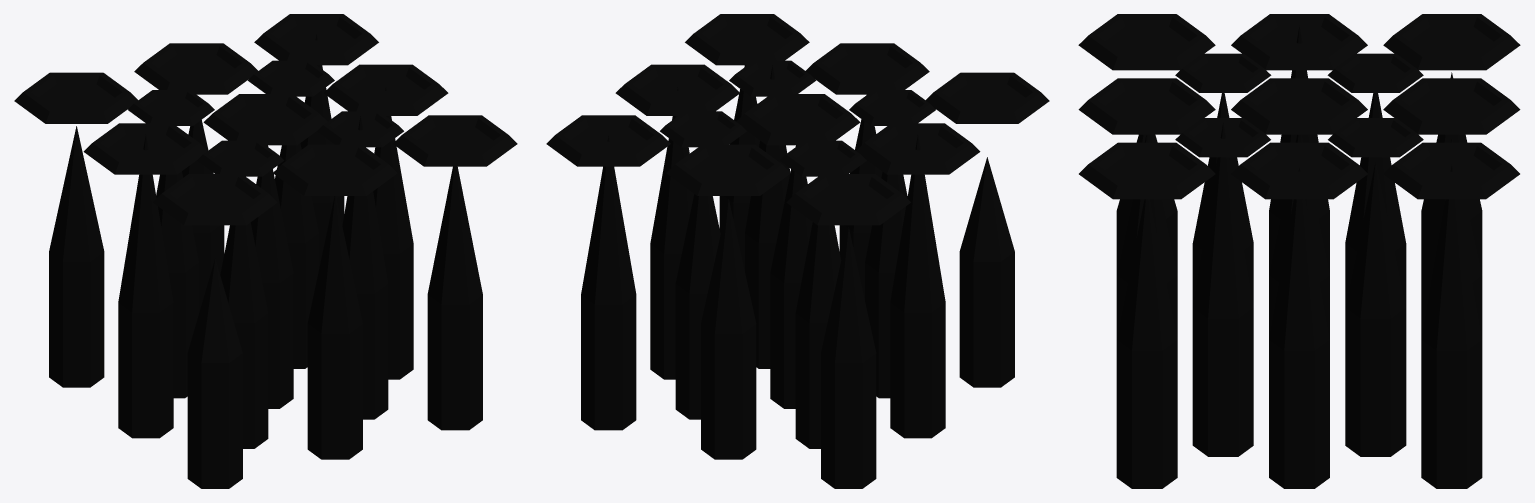
File: Spikes_0_0.fbx
The picture shows the model from 3 angles, left to right: view 1: azimuth 30°, elevation 25°; view 2: azimuth 150°, elevation 25°; view 3: azimuth 270°, elevation 25°; orthographic projection. The views are drawn at different scales.
Visible parts, largest first — view 1: Spikes, Spikes_0_0; view 2: Spikes, Spikes_0_0; view 3: Spikes, Spikes_0_0.
Boxes of the visible parts, x1=… form: Spikes: x1=49, y1=34, x2=482, y2=488; Spikes_0_0: x1=14, y1=14, x2=517, y2=225; Spikes: x1=581, y1=65, x2=1014, y2=488; Spikes_0_0: x1=546, y1=14, x2=1049, y2=225; Spikes: x1=1116, y1=25, x2=1482, y2=488; Spikes_0_0: x1=1078, y1=14, x2=1520, y2=199.
Size of the model in its own units: 0.8344 by 0.7037 by 0.8707.
Materials: 1 (1 with a texture image).
